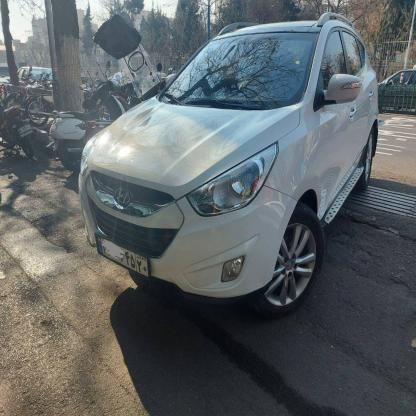Car: (83, 21, 384, 320), (377, 66, 416, 108)
